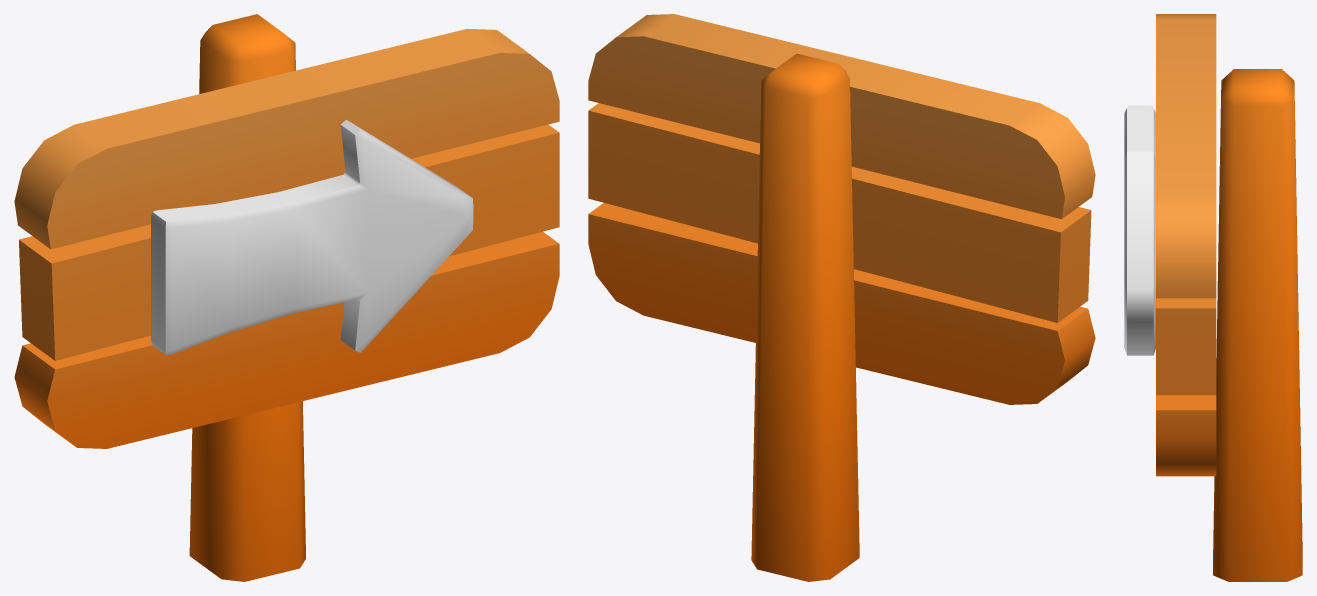
Rendered from Props_Wooden_Sign_01.glb.
3 views of the same model, side by side, from view 1: azimuth 30°, elevation 25°; view 2: azimuth 150°, elevation 25°; view 3: azimuth 270°, elevation 25° (orthographic). The views are drawn at different scales.
Visible parts, largest first — view 1: Props_Wooden_Sign_01; view 2: Props_Wooden_Sign_01; view 3: Props_Wooden_Sign_01.
Part boxes in pixels (x1,y1,x2,y2): Props_Wooden_Sign_01: [14, 14, 559, 581]; Props_Wooden_Sign_01: [588, 14, 1095, 581]; Props_Wooden_Sign_01: [1124, 14, 1302, 581].
Size of the model in its own units: 0.9011 by 0.888 by 0.2965.
1 material, 1 textured.
